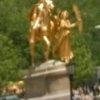Statue: (18, 2, 92, 67)
